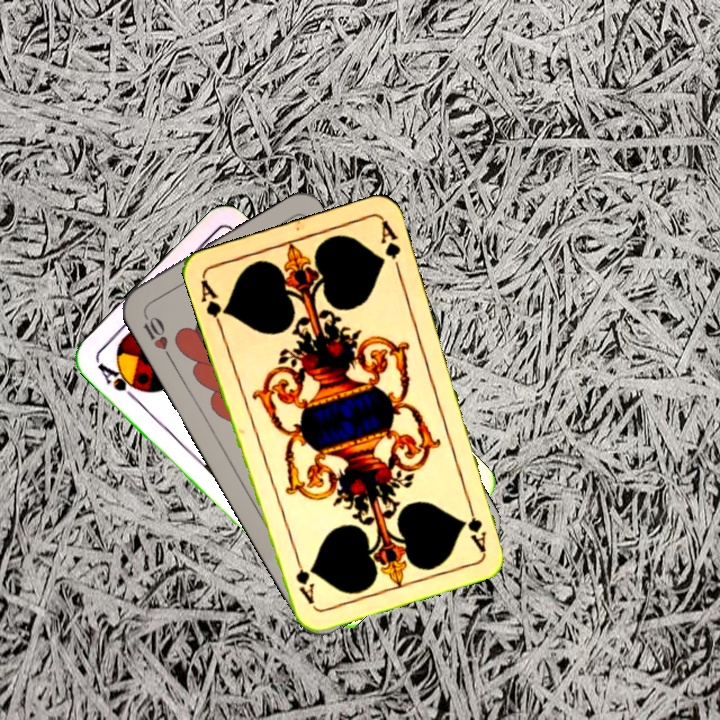GA: (196, 275, 231, 332), (463, 495, 489, 554)
H10: (139, 308, 174, 362)
SA: (91, 354, 143, 402)
